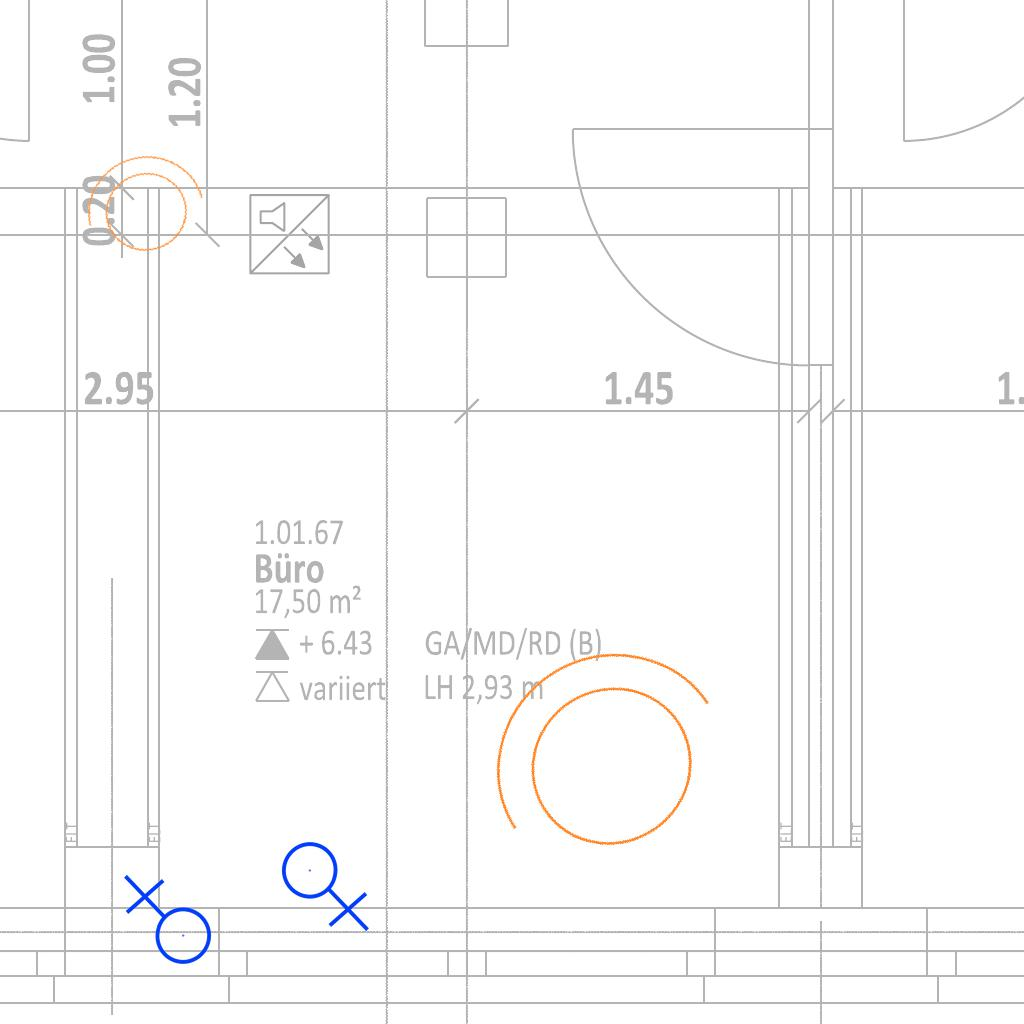Elektroanschluss_allgemein_230V_Geraeteanschlussdose_230V: (119, 874, 213, 973), (280, 833, 374, 932)
Scheinwerfer_fuer_Alarmbeleuchtung: (429, 595, 773, 928), (64, 137, 220, 279)
